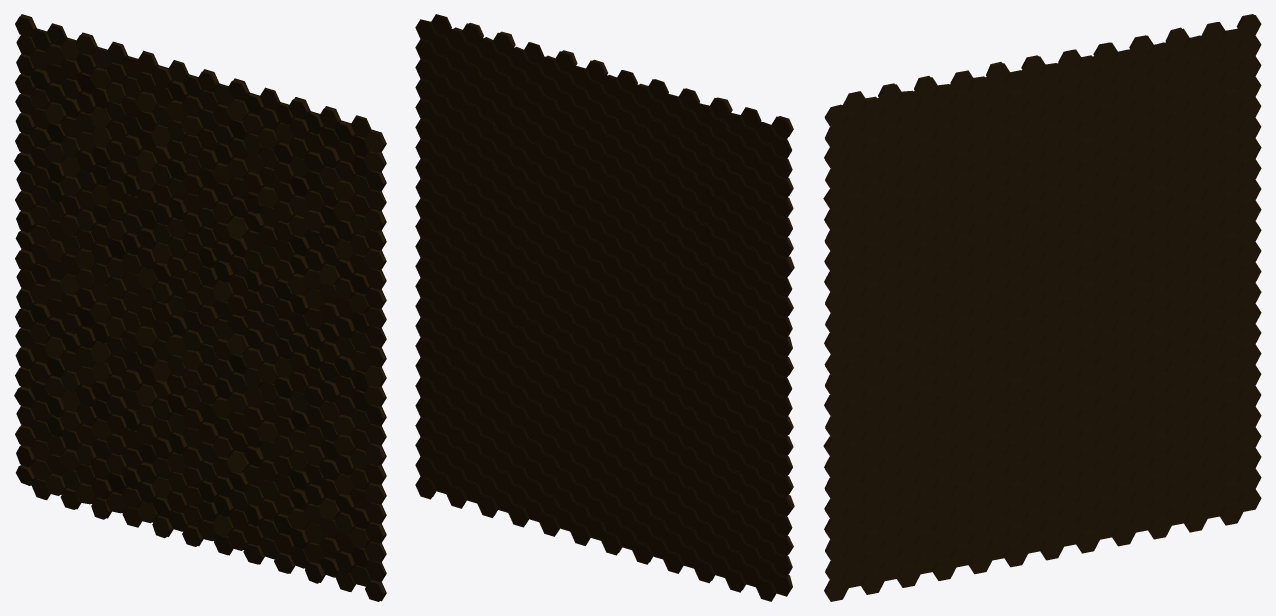
File: uploads_files_2860110_panel.fbx
3 renders of one model, left to right at view 1: azimuth 30°, elevation 25°; view 2: azimuth 210°, elevation 25°; view 3: azimuth 270°, elevation 25°, orthographic. The views are drawn at different scales.
Parts seen in each view (by area): view 1: Group001; view 2: Group001; view 3: Group001.
Part boxes in pixels (bbox=[...]): Group001: bbox=[14, 14, 386, 601]; Group001: bbox=[415, 14, 794, 601]; Group001: bbox=[823, 14, 1261, 601].
Size of the model in its own units: 186 by 509 by 400.
